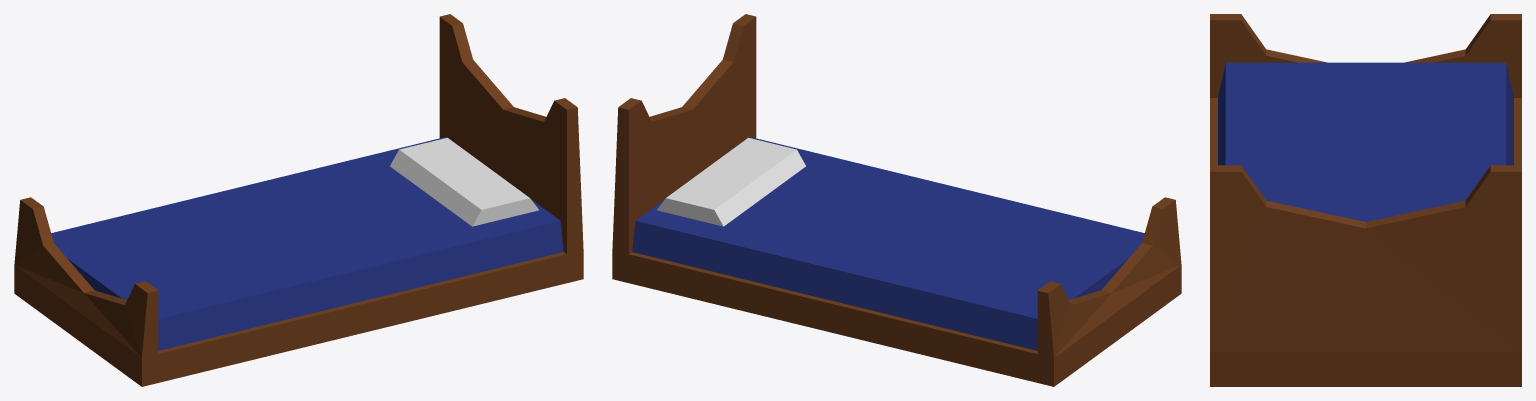
File: bed_decimated.fbx
3 renders of one model, left to right at view 1: azimuth 30°, elevation 25°; view 2: azimuth 150°, elevation 25°; view 3: azimuth 270°, elevation 25°, orthographic. The views are drawn at different scales.
Parts seen in each view (by area): view 1: Cube; view 2: Cube; view 3: Cube.
Part boxes in pixels (<box>): Cube: <box>14,14,583,386</box>; Cube: <box>612,14,1181,386</box>; Cube: <box>1210,14,1521,386</box>.
Size of the model in its own units: 800 by 300 by 400.
